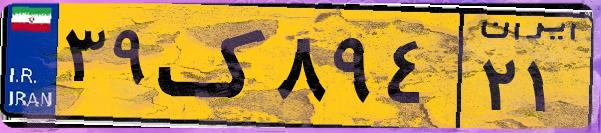1: (525, 38, 570, 115)
2: (475, 38, 525, 113)
3: (57, 26, 110, 100)
4: (385, 28, 445, 110)
8: (270, 28, 330, 110)
9: (330, 28, 385, 110), (110, 28, 158, 98)
ک: (158, 12, 270, 120)
